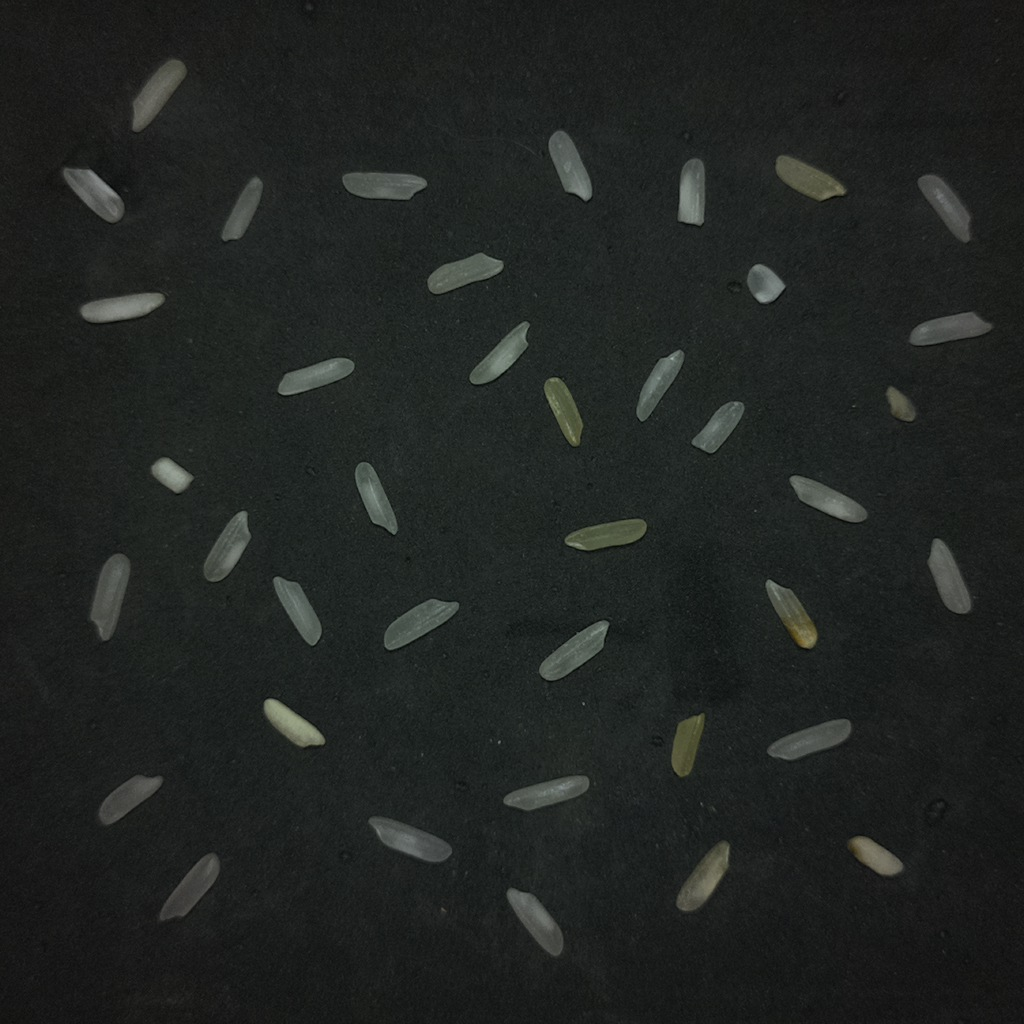broken: (62, 167, 124, 223), (203, 511, 251, 582), (636, 349, 683, 421), (97, 776, 162, 825), (427, 252, 503, 293), (692, 401, 744, 453), (221, 176, 262, 241), (677, 158, 705, 225), (747, 264, 785, 303)
chalky: (263, 698, 324, 747), (79, 292, 166, 324), (847, 836, 903, 876), (150, 457, 193, 493)
discolored: (676, 841, 729, 912), (766, 579, 817, 649), (775, 155, 846, 201), (544, 377, 582, 446), (564, 519, 646, 550), (671, 713, 705, 778), (885, 385, 916, 422)
whole: (539, 620, 609, 680), (159, 853, 219, 920), (506, 887, 563, 956), (131, 59, 185, 131), (368, 816, 452, 862), (384, 599, 459, 650), (470, 321, 529, 384), (789, 475, 867, 522), (767, 719, 852, 761), (918, 174, 970, 242), (89, 553, 129, 640), (273, 576, 321, 645), (927, 538, 971, 613), (548, 130, 592, 201), (503, 775, 589, 810), (355, 463, 397, 534), (277, 357, 354, 395), (909, 311, 992, 346), (342, 172, 426, 200)
